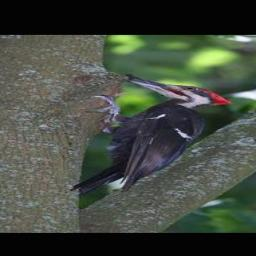Woodpecker: (70, 75, 235, 196)
